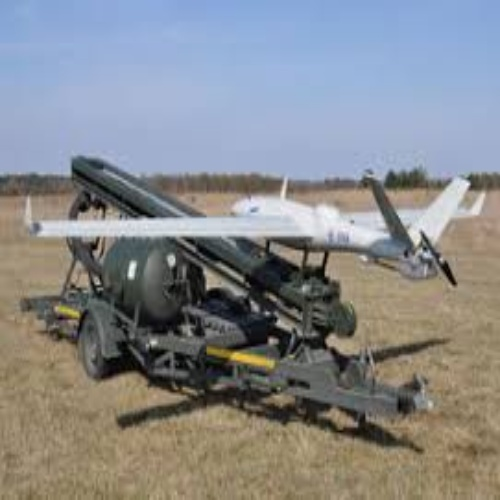uav627: (19, 176, 484, 286)
